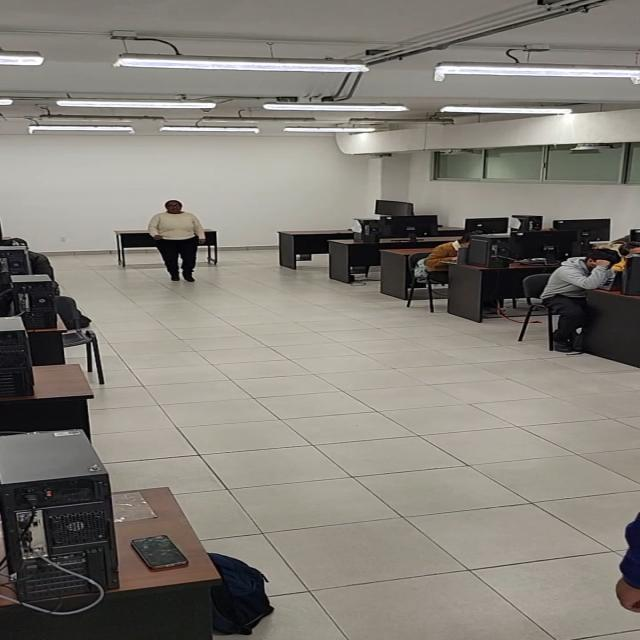Persona: (144, 197, 208, 287)
